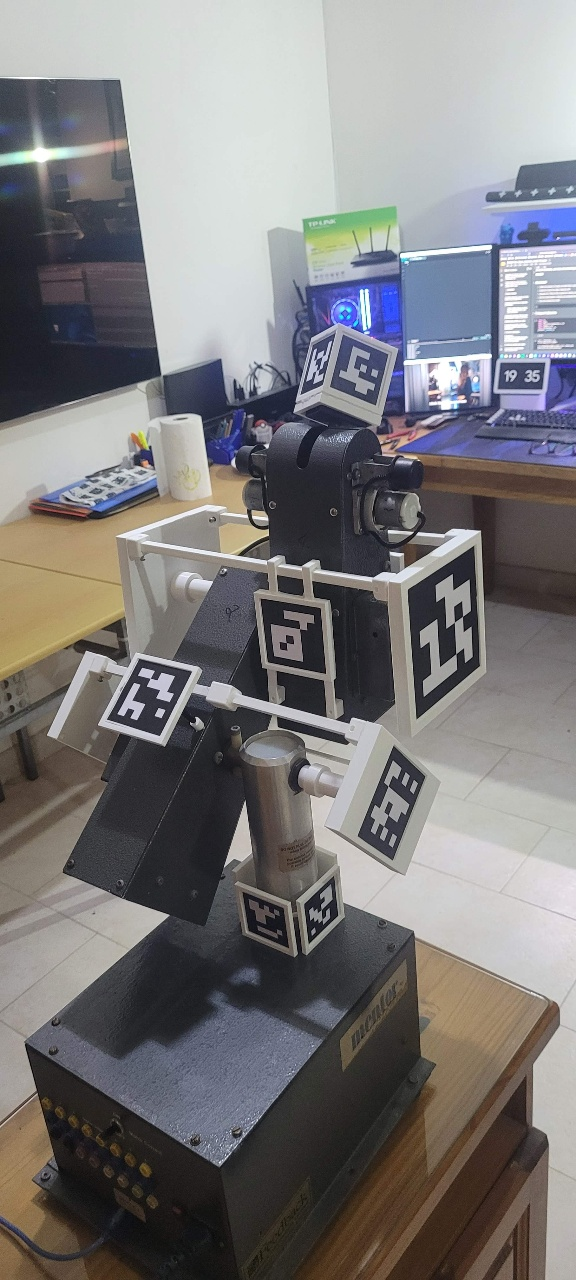Robot: (47, 320, 491, 959)
